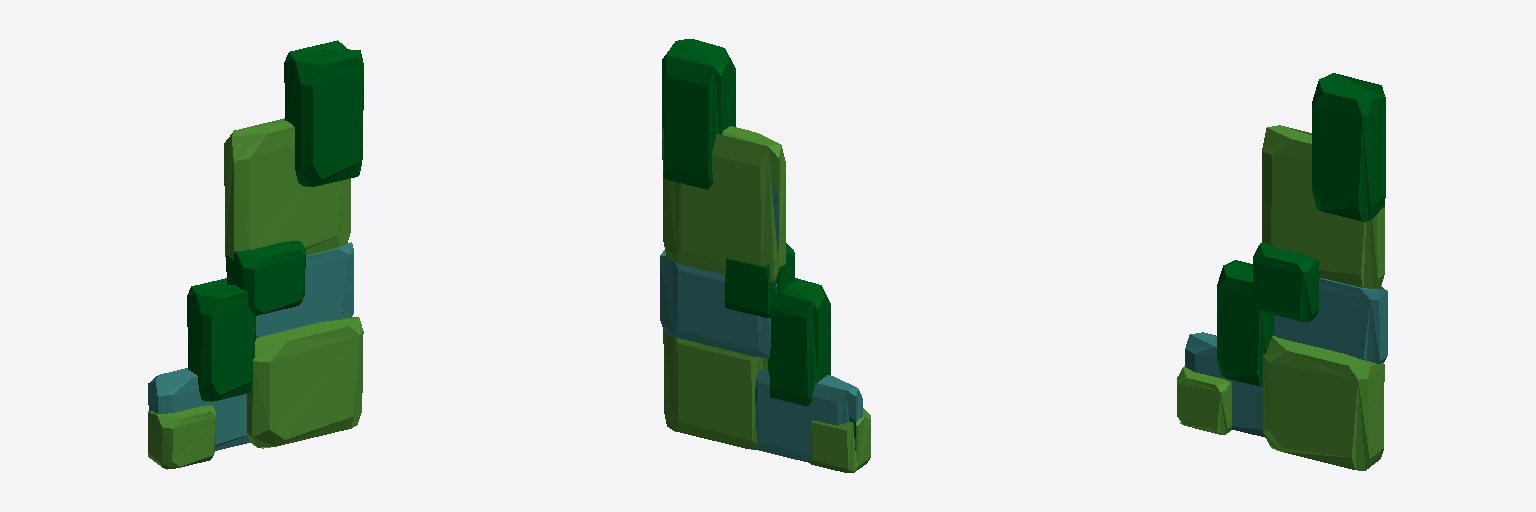
3 renders of one model, left to right at view 1: azimuth 30°, elevation 25°; view 2: azimuth 150°, elevation 25°; view 3: azimuth 330°, elevation 25°, orthographic.
Visible parts, largest first — view 1: saliente.013_Cube.013; view 2: saliente.013_Cube.013; view 3: saliente.013_Cube.013.
Boxes of the visible parts, <box> form: saliente.013_Cube.013: <box>148,40,363,469</box>; saliente.013_Cube.013: <box>660,39,870,472</box>; saliente.013_Cube.013: <box>1177,73,1387,470</box>.
Bounding box in the file's own units: 51.64 × 92.84 × 11.76.
1 materials, 1 textured.